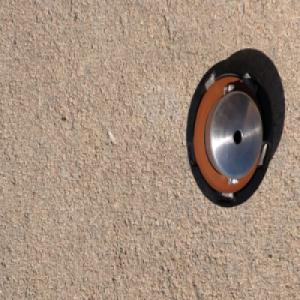FuelCap: (185, 57, 273, 210)
